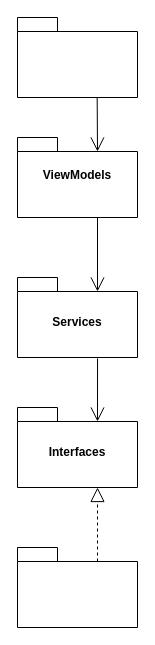
Some shapes in this 155 by 645 pixel diagram are drawn without their labels. The centre of each missing label's shape, as x and y in pixels:
"HardwareAdapters" belongs at point 77,587.
"Views" belongs at point 77,57.
